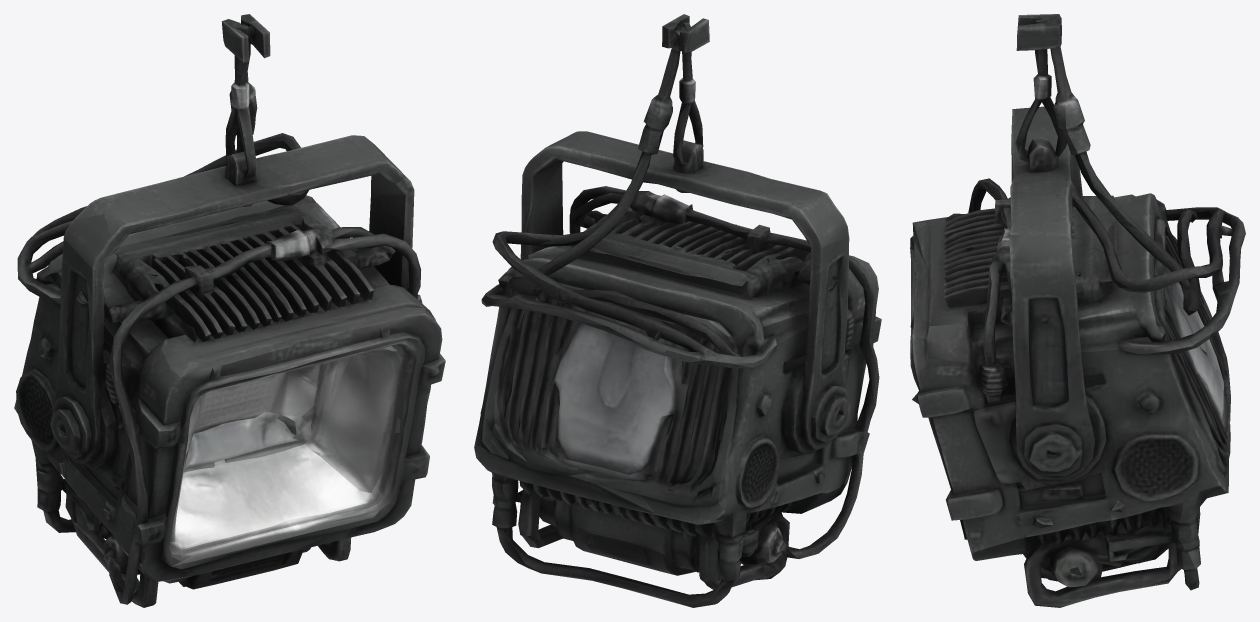
File: flood-lamp.glb
The picture shows the model from 3 angles, left to right: view 1: azimuth 30°, elevation 25°; view 2: azimuth 150°, elevation 25°; view 3: azimuth 270°, elevation 25°; orthographic projection. The views are drawn at different scales.
Parts seen in each view (by area): view 1: world; view 2: world; view 3: world.
Part boxes in pixels (x1,y1,x2,y2): world: (14,14,445,607); world: (474,14,881,607); world: (910,14,1245,607).
Size of the model in its own units: 0.3306 by 0.52 by 0.2924.
1 material, 1 textured.
